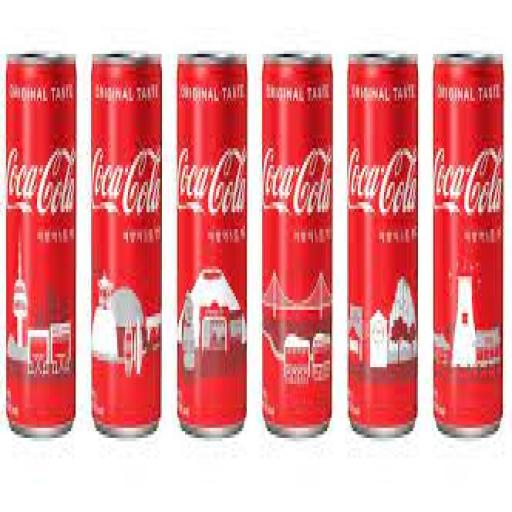Coca: (259, 46, 336, 448), (345, 47, 421, 453), (428, 42, 505, 440), (174, 47, 250, 443), (4, 47, 78, 442), (88, 48, 161, 444)
